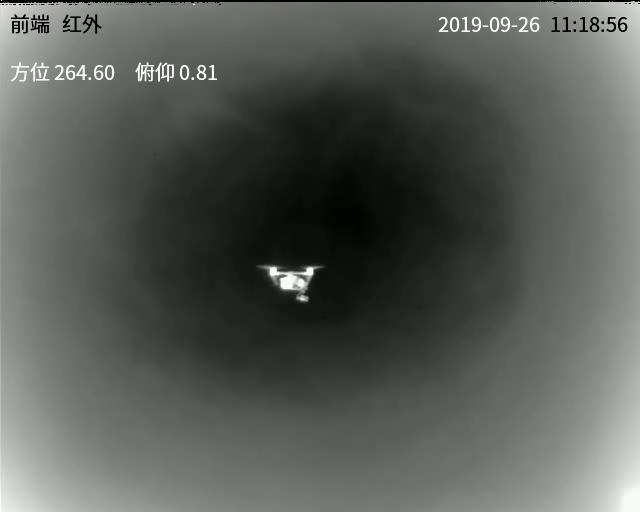uav: (258, 254, 333, 306)
